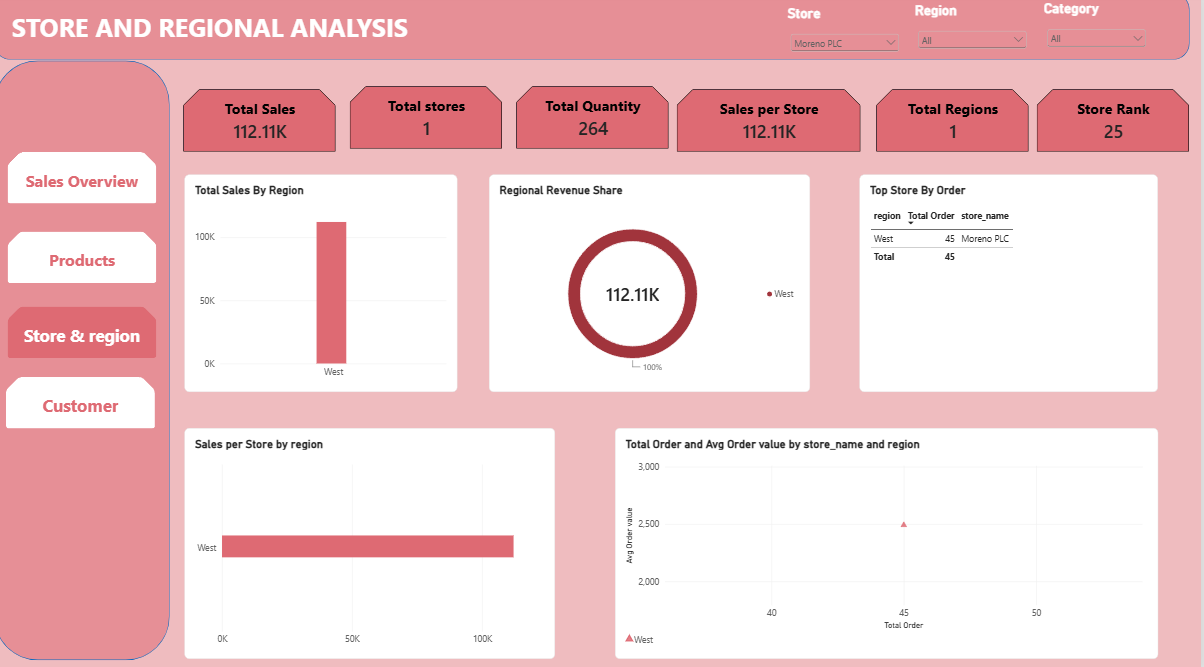

This screenshot's page, from the dashboard's own definition file:
{"tool":"powerbi","page":{"name":"region & store","canvas":[1920,1080],"ordinal":2},"visuals":[{"type":"shape","box":[0,0,1901.8,106.3],"z":0},{"type":"actionButton","box":[0,12.2,686.6,85.1],"z":1},{"type":"shape","box":[0,106.3,279.5,953.9],"z":2},{"type":"actionButton","box":[21.3,252.2,237,82],"z":3},{"type":"actionButton","box":[21.3,379.7,237,82],"z":4},{"type":"actionButton","box":[21.3,498.2,237,82],"z":5},{"type":"actionButton","box":[18.2,610.6,237,82],"z":6},{"type":"columnChart","title":"Total Sales By Region","fields":{"Category":["sales_warehouse dim_store.region"],"Y":["calculation table.Total Sales"]},"box":[303.8,288.6,434.2,346],"z":7},{"type":"donutChart","title":"Regional Revenue Share","fields":{"Category":["sales_warehouse dim_store.region"],"Y":["calculation table.Total Sales"]},"box":[786.8,288.6,510.6,346],"z":10},{"type":"cardVisual","fields":{"Data":["calculation table.Total stores"]},"box":[565.1,148.9,243,100.3],"z":11},{"type":"cardVisual","fields":{"Data":["calculation table.Total Sales"]},"box":[300.8,151.9,243,100.3],"z":12},{"type":"cardVisual","fields":{"Data":["calculation table.Total Quantity"]},"box":[829.4,148.9,243,100.3],"z":13},{"type":"cardVisual","fields":{"Data":["calculation table.Sales per Store"]},"box":[1084.6,151.9,293.5,100.2],"z":14},{"type":"cardVisual","fields":{"Data":["calculation table.Total Regions"]},"box":[1403.5,151.9,243,100.3],"z":15},{"type":"tableEx","title":"Top Store By Order","fields":{"Values":["sales_warehouse dim_store.region","calculation table.Total Order","sales_warehouse dim_store.store_name"]},"box":[1376.7,288.7,474.8,346],"z":16},{"type":"barChart","fields":{"Category":["sales_warehouse dim_store.region"],"Y":["calculation table.Sales per Store"]},"box":[303.8,692.7,589.4,367.6],"z":17},{"type":"scatterChart","fields":{"Category":["sales_warehouse dim_store.store_name"],"Series":["sales_warehouse dim_store.region"],"X":["calculation table.Total Order"],"Y":["calculation table.Avg Order value"]},"box":[987.8,691.9,863.7,367.4],"z":18},{"type":"slicer","title":"Region","fields":{"Values":["sales_warehouse dim_store.region"]},"box":[1464.3,15.2,182.3,75.9],"z":20},{"type":"slicer","title":"Category","fields":{"Values":["sales_warehouse dim_product.category"]},"box":[1670.9,12.2,167.1,75.9],"z":21},{"type":"cardVisual","fields":{"Data":["calculation table.Store Rank"]},"box":[1658.7,151.9,243,100.3],"z":22},{"type":"slicer","title":"Store","fields":{"Values":["sales_warehouse dim_store.store_name"]},"box":[1262.1,19.1,182.3,75.9],"z":23}]}

Visuals, with their boxes in screenshot pixels (x1, y1, x2, y2), scaled from the page's 1920x1080 canvas onto the 1204x667 screenshot:
shape: rect(0, 0, 1193, 66)
actionButton: rect(0, 8, 431, 60)
shape: rect(0, 66, 175, 655)
actionButton: rect(13, 156, 162, 206)
actionButton: rect(13, 234, 162, 285)
actionButton: rect(13, 308, 162, 358)
actionButton: rect(11, 377, 160, 428)
"Total Sales By Region" columnChart: rect(191, 178, 463, 392)
"Regional Revenue Share" donutChart: rect(493, 178, 814, 392)
cardVisual - calculation table.Total stores: rect(354, 92, 507, 154)
cardVisual - calculation table.Total Sales: rect(189, 94, 341, 156)
cardVisual - calculation table.Total Quantity: rect(520, 92, 672, 154)
cardVisual - calculation table.Sales per Store: rect(680, 94, 864, 156)
cardVisual - calculation table.Total Regions: rect(880, 94, 1032, 156)
"Top Store By Order" tableEx: rect(863, 178, 1161, 392)
barChart - sales_warehouse dim_store.region x calculation table.Sales per Store: rect(191, 428, 560, 655)
scatterChart - sales_warehouse dim_store.store_name x sales_warehouse dim_store.region: rect(619, 427, 1161, 654)
"Region" slicer: rect(918, 9, 1033, 56)
"Category" slicer: rect(1048, 8, 1153, 54)
cardVisual - calculation table.Store Rank: rect(1040, 94, 1193, 156)
"Store" slicer: rect(791, 12, 906, 59)
